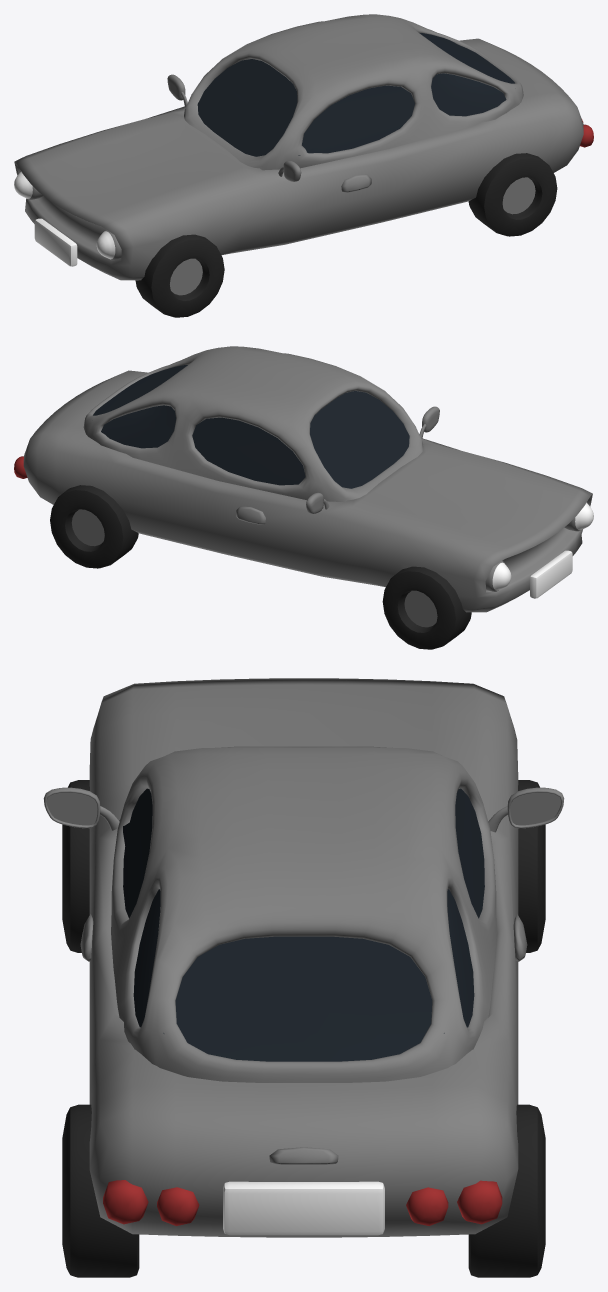
File: SM_car_03.fbx
The picture shows the model from 3 angles, top to bottom: view 1: azimuth 30°, elevation 25°; view 2: azimuth 150°, elevation 25°; view 3: azimuth 270°, elevation 25°; orthographic projection. The views are drawn at different scales.
Visible parts, largest first — view 1: Object291; view 2: Object291; view 3: Object291.
Part boxes in pixels (x1,y1,x2,y2): Object291: (14, 14, 593, 317); Object291: (14, 346, 593, 649); Object291: (43, 678, 564, 1277).
Bounding box in the file's own units: 212 × 70.89 × 94.41.
